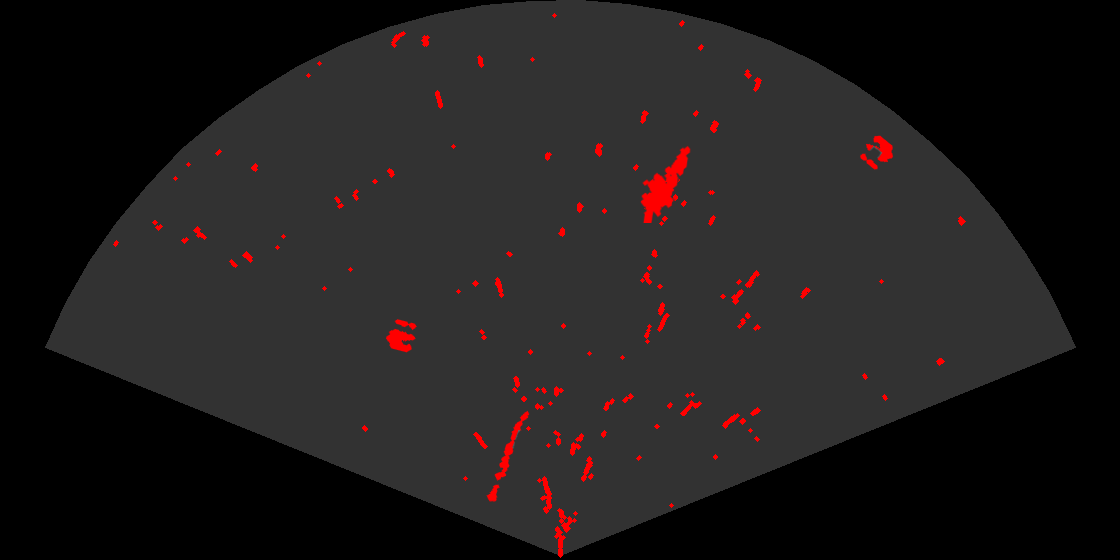ball: (859, 134, 895, 171), (384, 318, 418, 354)
chain: (485, 409, 531, 504)
frogman: (639, 144, 692, 223)
